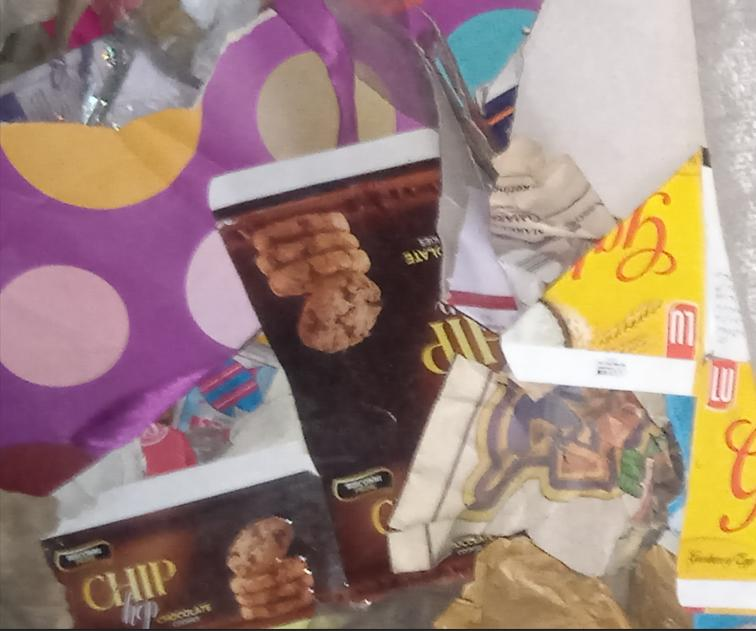paper: (204, 123, 678, 599), (492, 146, 753, 391), (42, 438, 354, 631), (674, 354, 756, 614)
